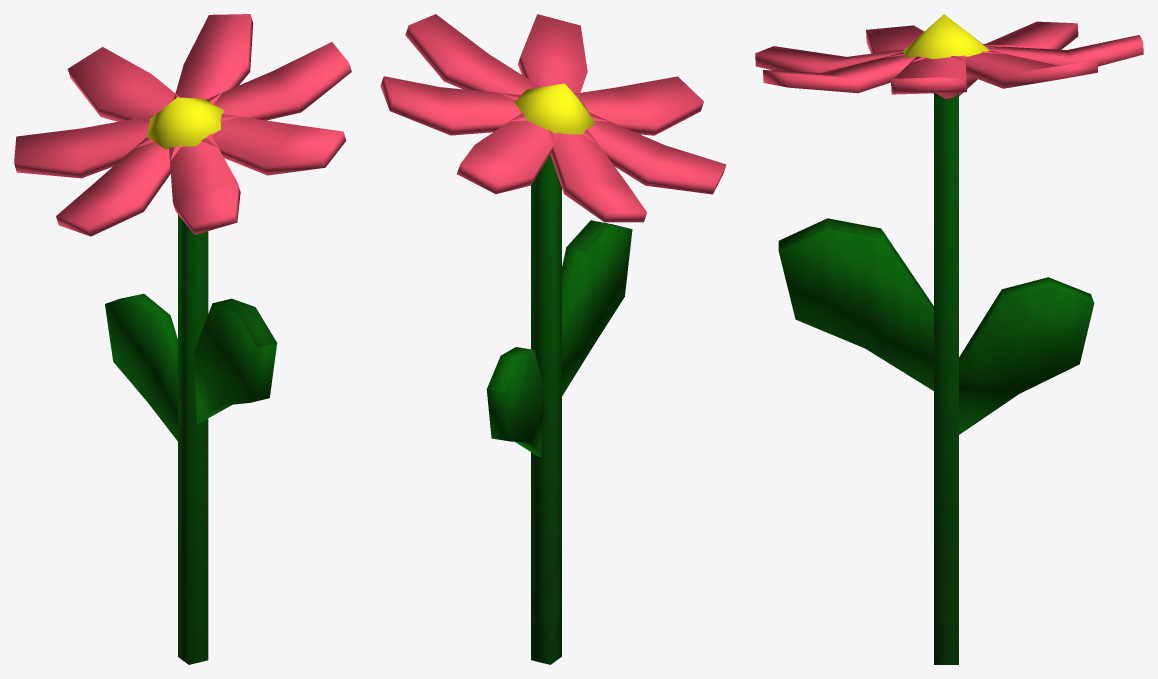
The model's file is daisy.002.fbx.
3 renders of one model, left to right at view 1: azimuth 30°, elevation 25°; view 2: azimuth 150°, elevation 25°; view 3: azimuth 270°, elevation 25°, orthographic. The views are drawn at different scales.
Parts seen in each view (by area): view 1: daisy.002; view 2: daisy.002; view 3: daisy.002.
Boxes of the visible parts, x1,y1,x2,y2 form: daisy.002: (14, 14, 351, 664); daisy.002: (380, 14, 726, 664); daisy.002: (755, 14, 1143, 664).
Bounding box in the file's own units: 0.3072 × 0.5888 × 0.3154.
